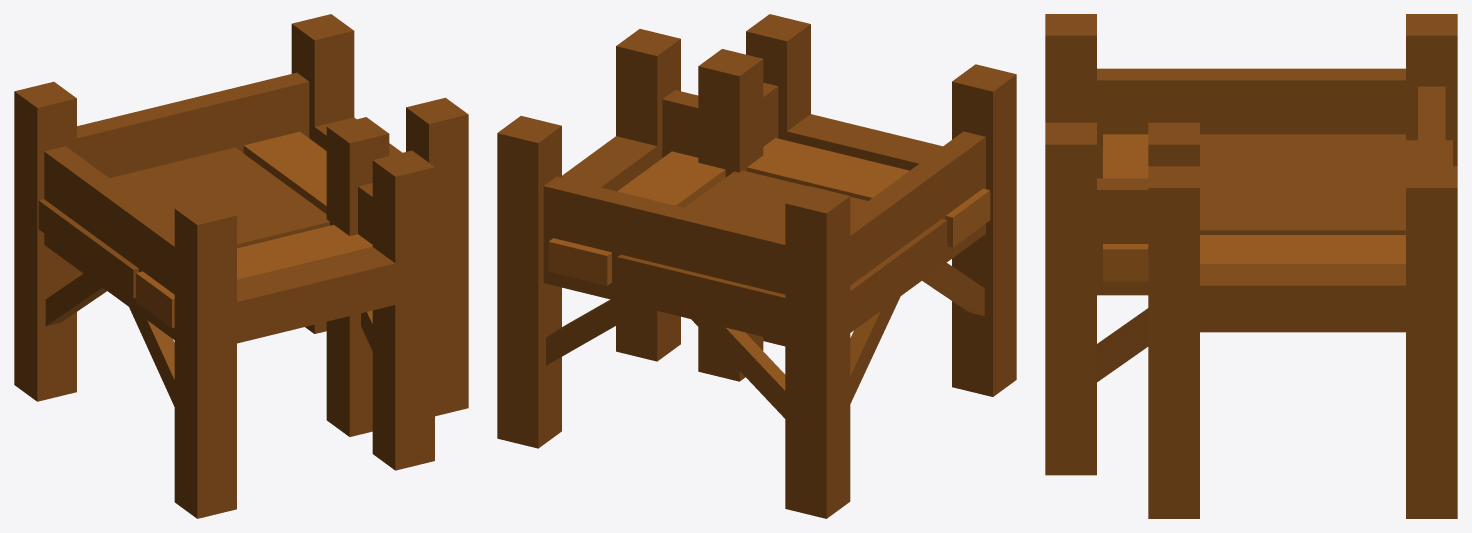
The model's file is bridge_corner.fbx.
3 renders of one model, left to right at view 1: azimuth 30°, elevation 25°; view 2: azimuth 150°, elevation 25°; view 3: azimuth 270°, elevation 25°, orthographic. The views are drawn at different scales.
Visible parts, largest first — view 1: polySurface23; view 2: polySurface23; view 3: polySurface23.
Boxes of the visible parts, x1,y1,x2,y2 form: polySurface23: [14, 14, 468, 518]; polySurface23: [497, 14, 1016, 518]; polySurface23: [1045, 14, 1457, 518].
Bounding box in the file's own units: 80 × 70.89 × 80.
Materials: 1 (1 with a texture image).
